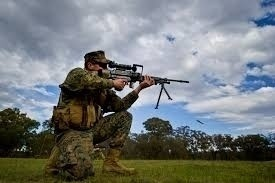pistol: (109, 60, 193, 92)
